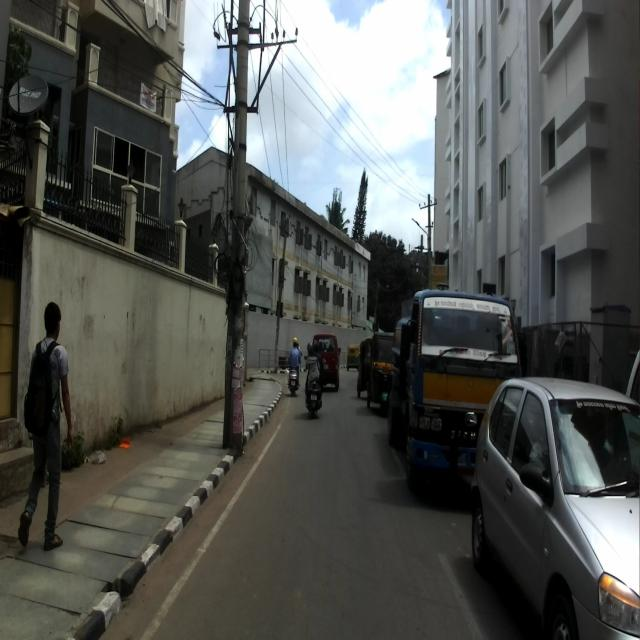Car_TATA: (470, 377, 639, 639)
truck: (387, 290, 529, 512)
